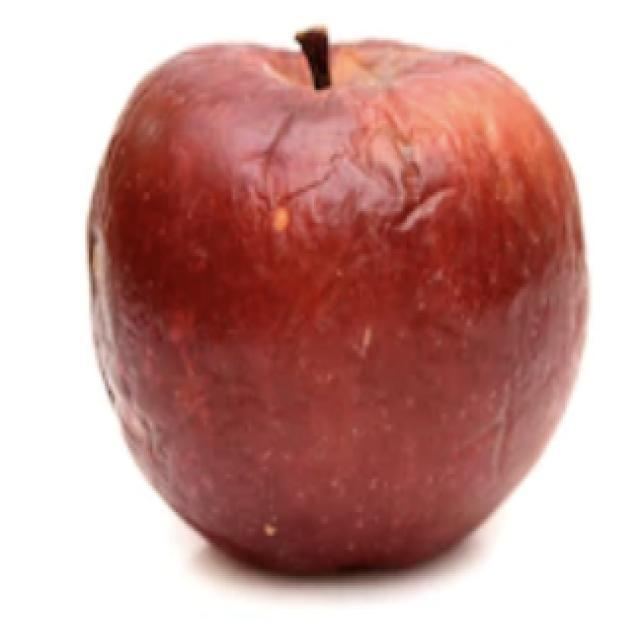Rotten: (80, 33, 588, 575)
